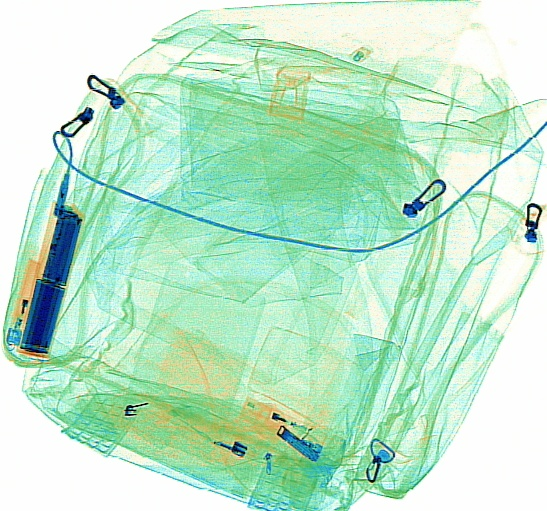lighter: (235, 392, 327, 455), (2, 255, 40, 350)
powerbank: (14, 199, 87, 359)
